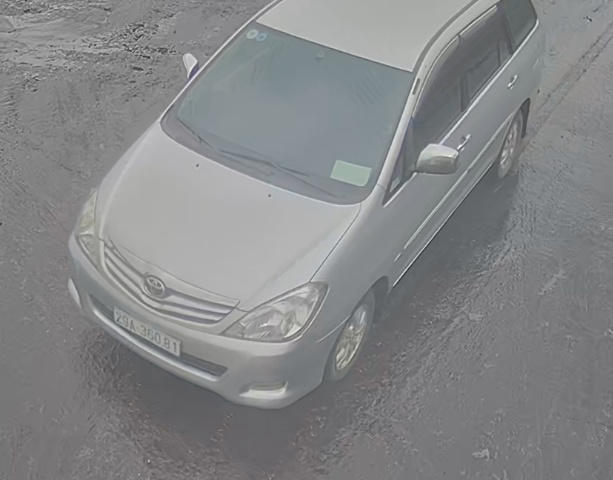vehicle plate: (107, 298, 186, 361)
